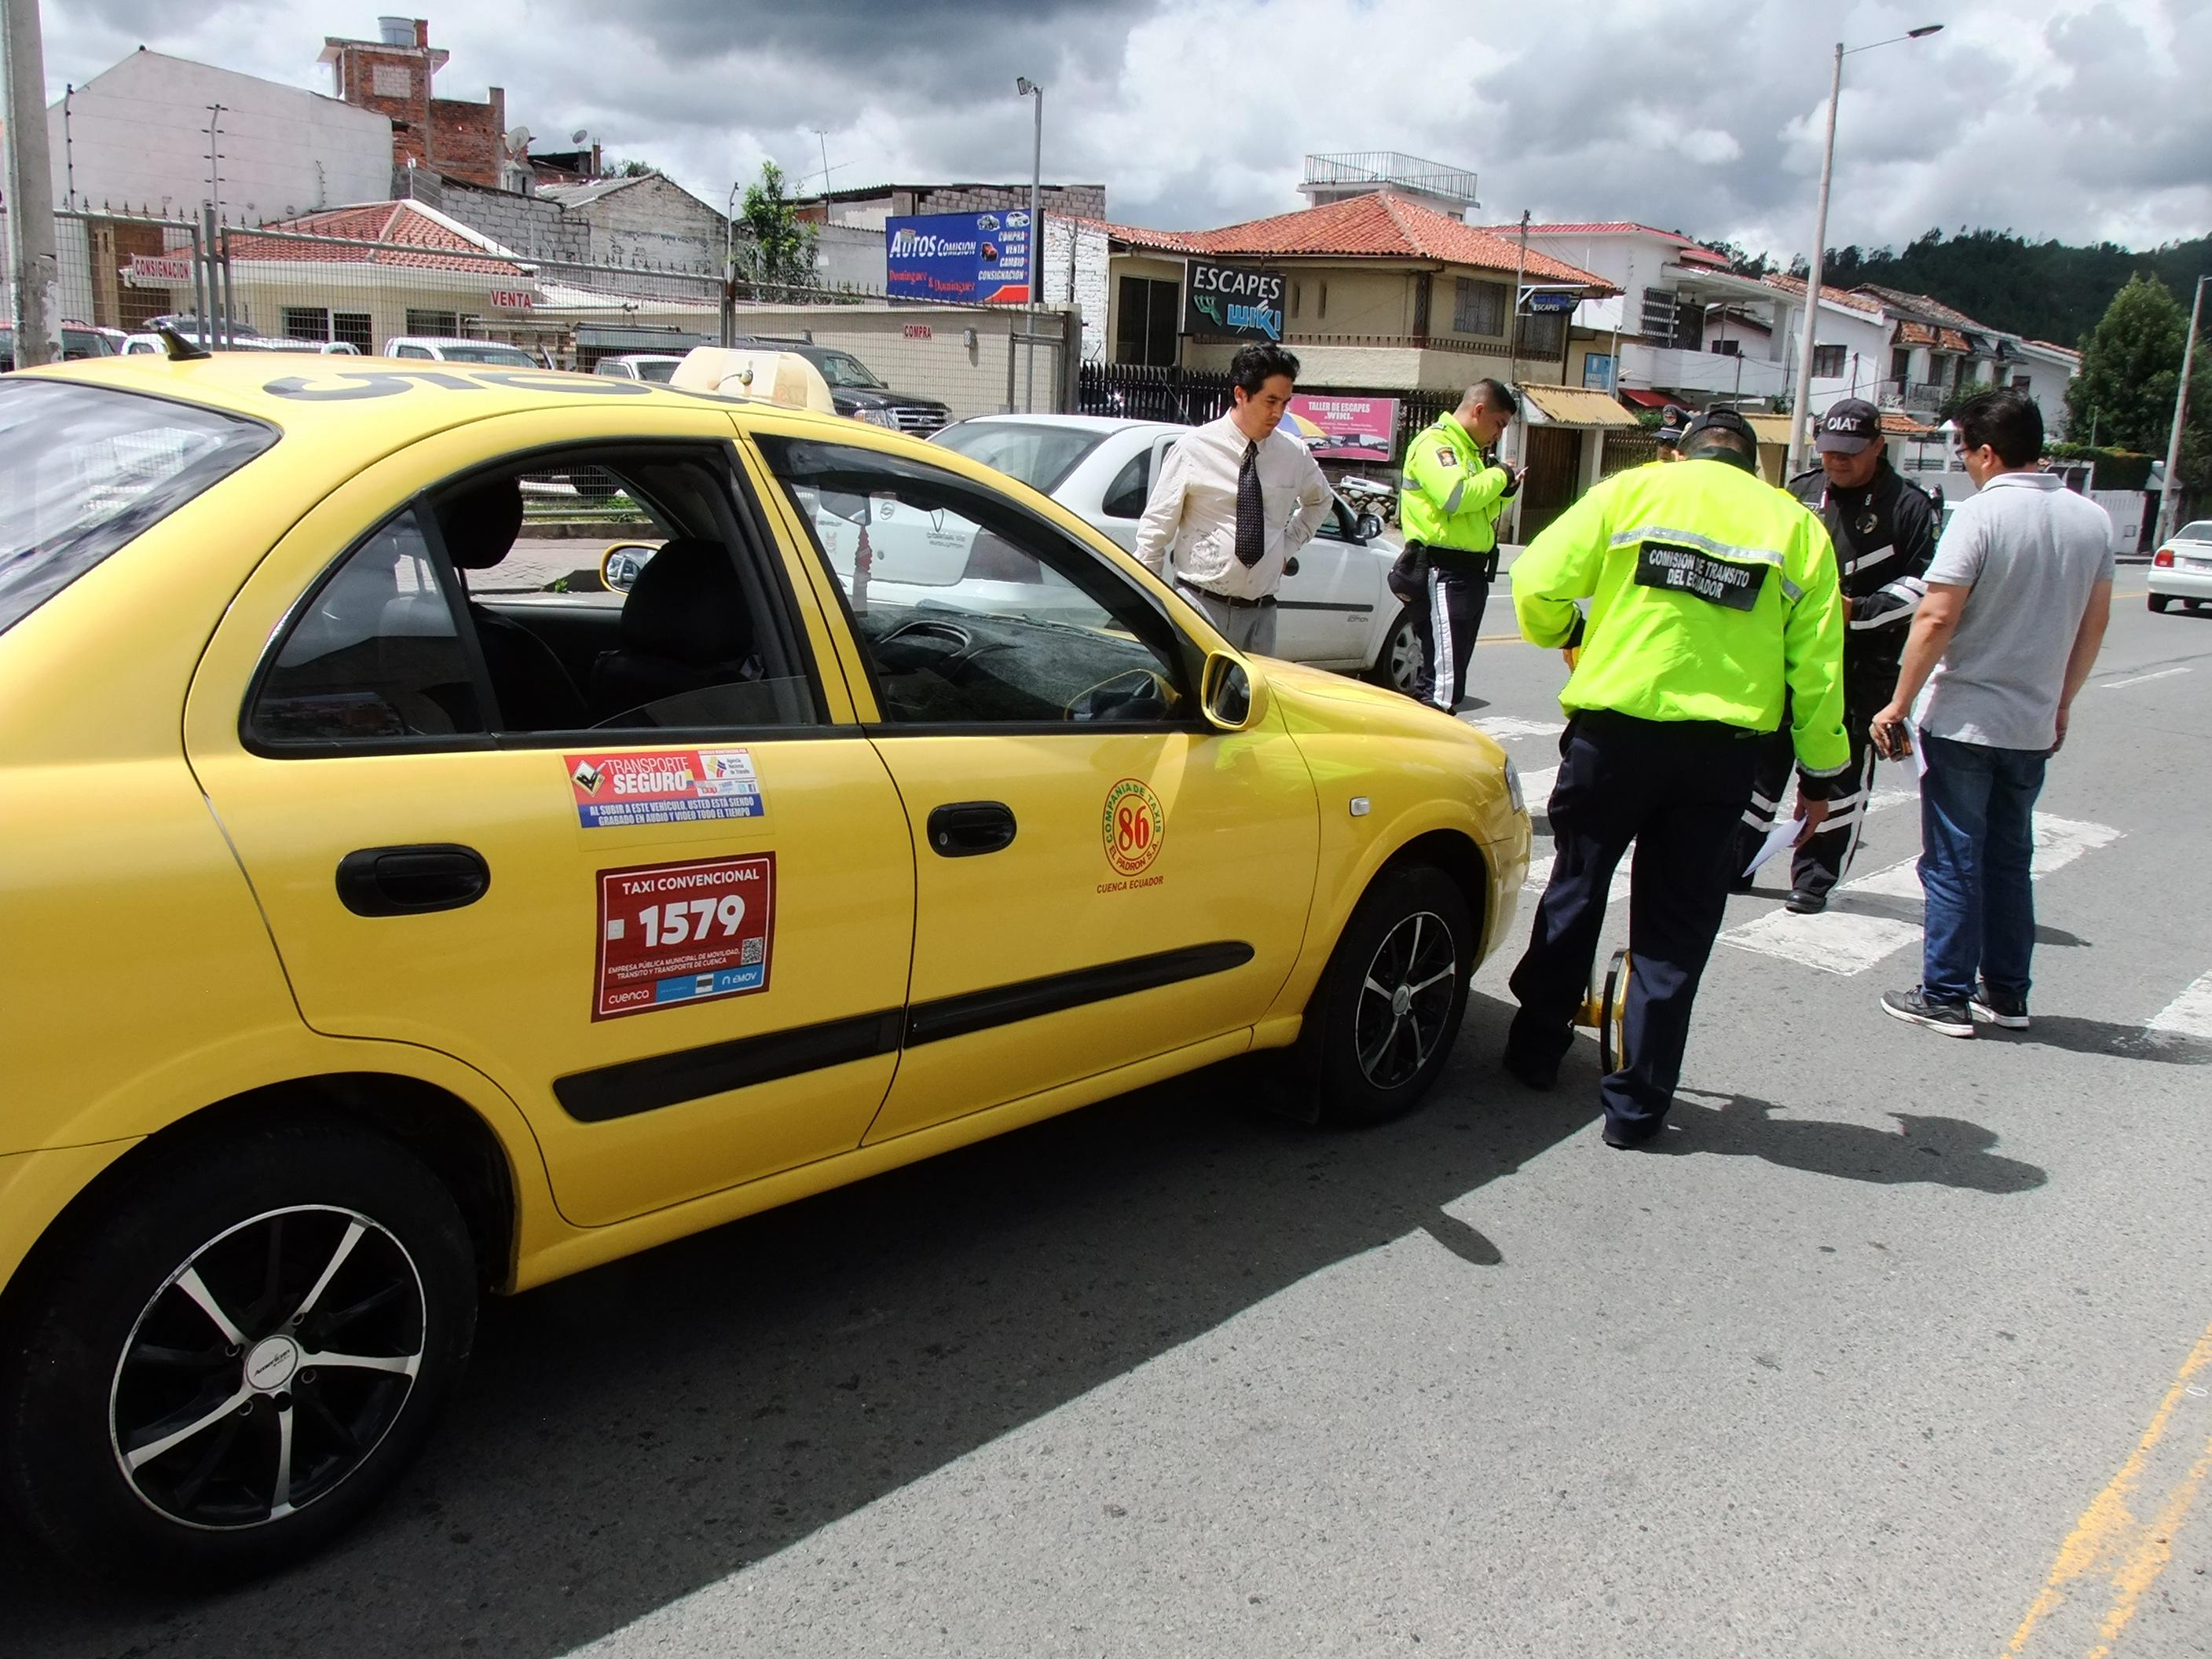taxi: (0, 486, 1456, 1333)
